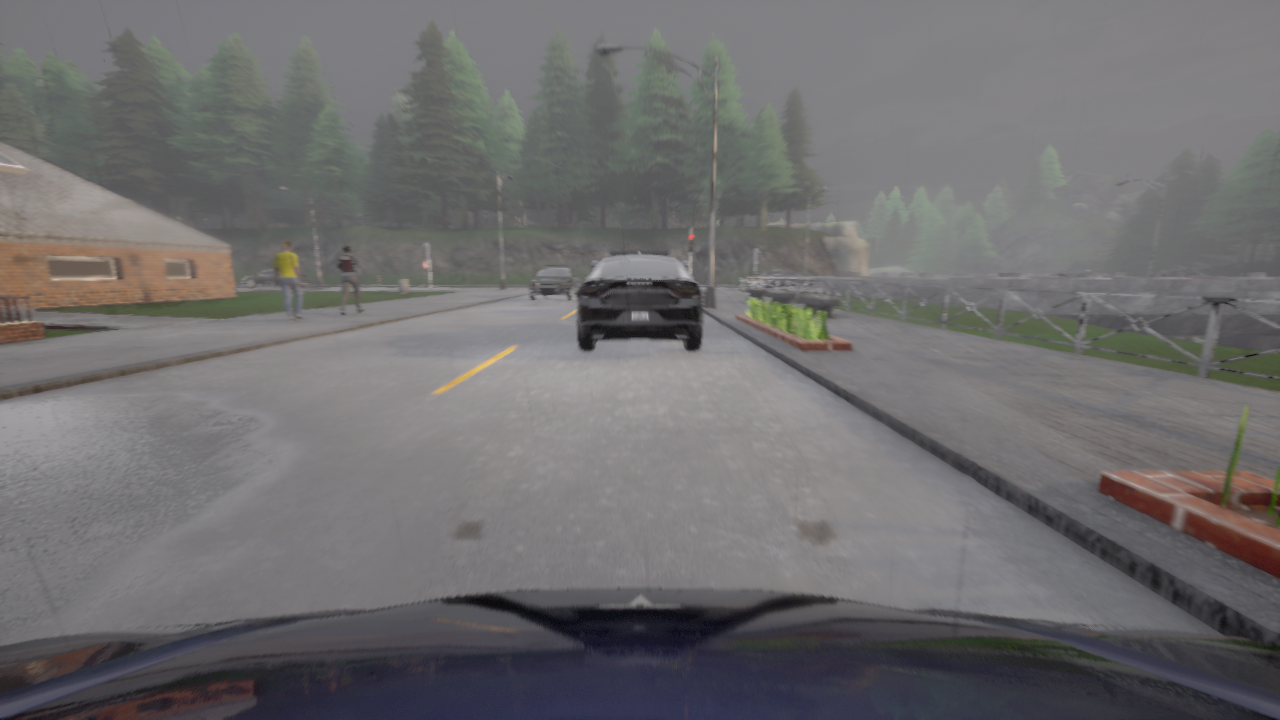cyclist: (0, 588, 1279, 719), (577, 249, 702, 350), (529, 264, 580, 300), (749, 269, 815, 288), (243, 269, 309, 287), (1048, 270, 1122, 278), (1150, 269, 1215, 278)
pedestrian: (274, 240, 304, 321), (337, 245, 364, 315), (461, 265, 465, 285), (356, 265, 360, 284), (378, 273, 380, 284)
